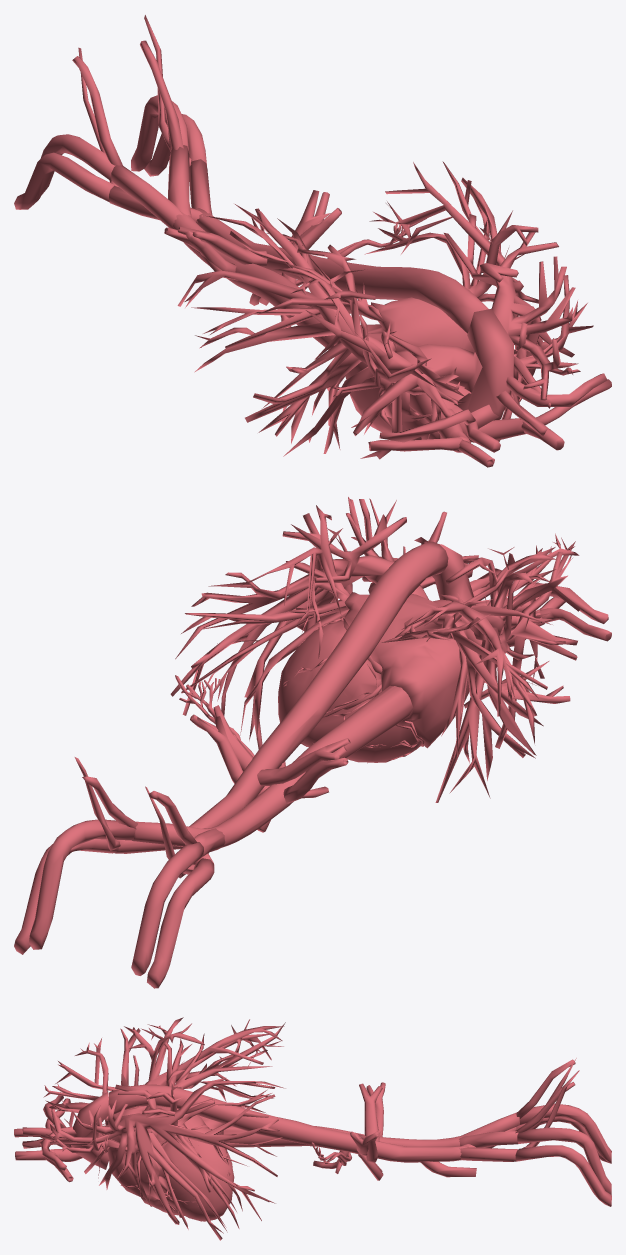
Rendered from overview__vascular.cf7217f108.glb.
3 views of the same model, one above another, from view 1: azimuth 30°, elevation 25°; view 2: azimuth 150°, elevation 25°; view 3: azimuth 270°, elevation 25° (orthographic). The views are drawn at different scales.
Parts seen in each view (by area): view 1: FMA66326, FMA66643, FMA3784, FMA7274, FMA3768, FMA18806, FMA10951, FMA21387, FMA18886, FMA18885, FMA21388, FMA4694 (+14 smaller); view 2: FMA66326, FMA7274, FMA66643, FMA3784, FMA10951, FMA18886, FMA18885, FMA18806, FMA18807, FMA14752, FMA3768, FMA14335 (+7 smaller); view 3: FMA66326, FMA66643, FMA3784, FMA7274, FMA18886, FMA10951, FMA18807, FMA18885, FMA3768, FMA14766, FMA21388, FMA14752 (+9 smaller).
Part boxes in pixels (bbox=[...]): FMA66326: bbox=[177, 161, 578, 459]; FMA66643: bbox=[191, 199, 593, 443]; FMA3784: bbox=[195, 208, 488, 333]; FMA7274: bbox=[334, 290, 474, 439]; FMA3768: bbox=[454, 308, 513, 420]; FMA18806: bbox=[14, 152, 115, 209]; FMA10951: bbox=[172, 211, 335, 349]; FMA21387: bbox=[111, 165, 182, 228]; FMA18886: bbox=[131, 95, 189, 171]; FMA18885: bbox=[40, 134, 115, 194]; FMA21388: bbox=[168, 145, 191, 216]; FMA4694: bbox=[506, 373, 607, 406]; FMA66326: bbox=[170, 497, 580, 802]; FMA7274: bbox=[278, 592, 479, 762]; FMA66643: bbox=[181, 499, 575, 780]; FMA3784: bbox=[189, 541, 448, 828]; FMA10951: bbox=[211, 685, 413, 847]; FMA18886: bbox=[29, 819, 135, 949]; FMA18885: bbox=[131, 842, 203, 975]; FMA18806: bbox=[147, 858, 214, 988]; FMA18807: bbox=[14, 839, 118, 954]; FMA14752: bbox=[257, 738, 350, 785]; FMA3768: bbox=[424, 542, 475, 605]; FMA14335: bbox=[283, 746, 348, 803]; FMA66326: bbox=[41, 1017, 285, 1240]; FMA66643: bbox=[39, 1019, 285, 1232]; FMA3784: bbox=[108, 1084, 468, 1162]; FMA7274: bbox=[131, 1087, 234, 1221]; FMA18886: bbox=[517, 1127, 611, 1194]; FMA10951: bbox=[223, 1126, 463, 1147]; FMA18807: bbox=[515, 1145, 611, 1206]; FMA18885: bbox=[517, 1103, 611, 1163]; FMA3768: bbox=[71, 1091, 108, 1169]; FMA14766: bbox=[459, 1147, 517, 1161]; FMA21388: bbox=[459, 1131, 518, 1147]; FMA14752: bbox=[359, 1083, 382, 1141].
Size of the model in its own units: 248 by 161 by 566.
